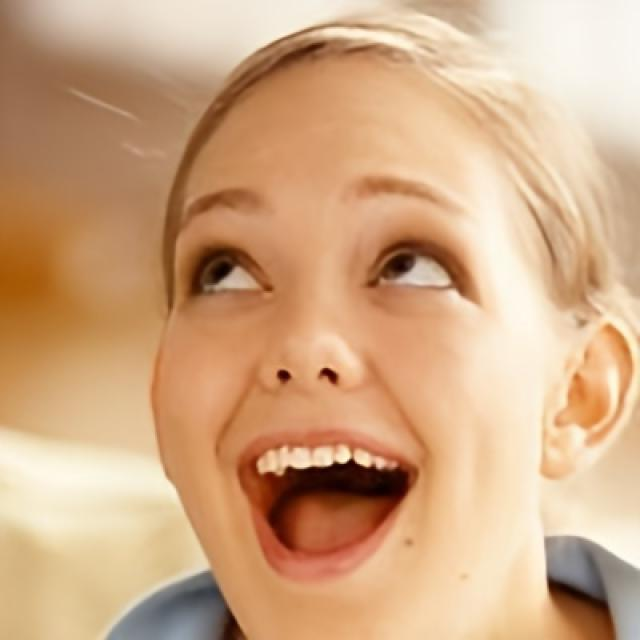surprise: (150, 48, 544, 638)
